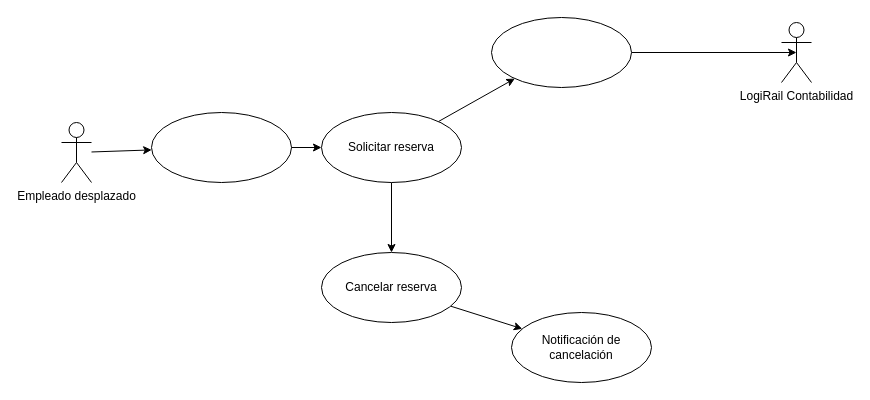
The diagram is 870 pixels wide and 400 high, and some of its shapes have lost their labels. Each missing label, with the centre of its shape:
"Consultar estancias" goes at pixel 221 147.
"Notificación de confirmación" goes at pixel 561 52.
